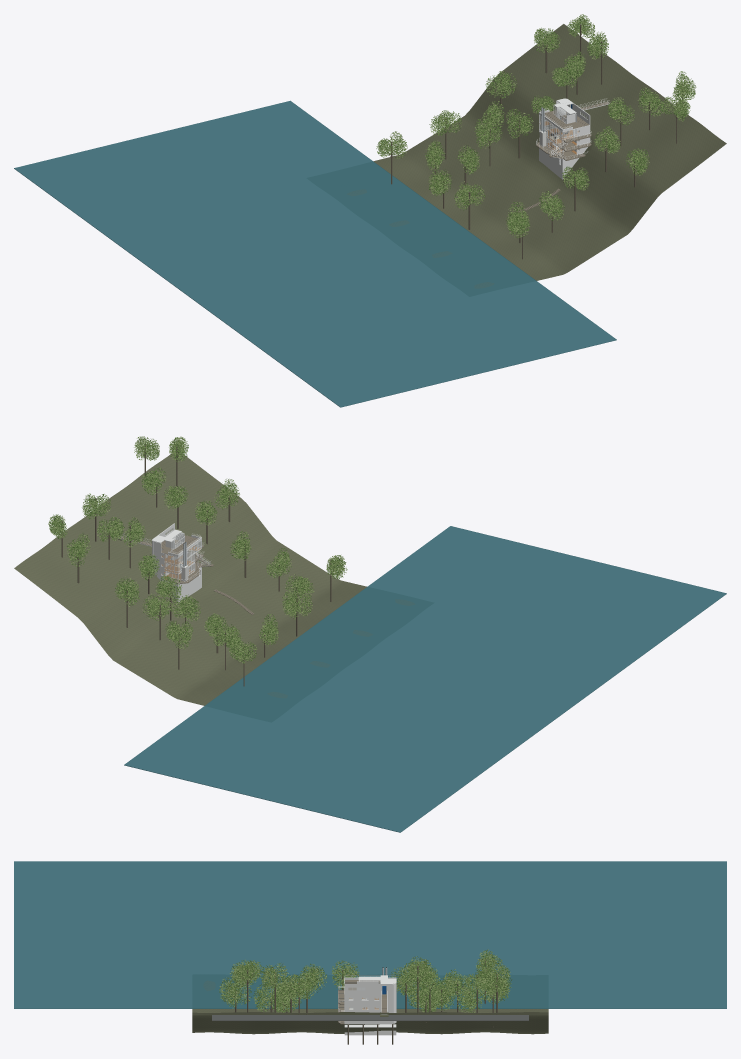
3 views of the same model, one above another, from view 1: azimuth 30°, elevation 25°; view 2: azimuth 150°, elevation 25°; view 3: azimuth 270°, elevation 25° (orthographic). The views are drawn at different scales.
Visible parts, largest first — view 1: 09_Complete_Architecture; view 2: 09_Complete_Architecture; view 3: 09_Complete_Architecture.
Part boxes in pixels (box(x1,y1,x2,y2)): 09_Complete_Architecture: box(14, 14, 726, 407); 09_Complete_Architecture: box(14, 436, 726, 832); 09_Complete_Architecture: box(14, 861, 726, 1044).
Bounding box in the file's own units: 150 × 41.11 × 180.
26 materials, 4 textured.
